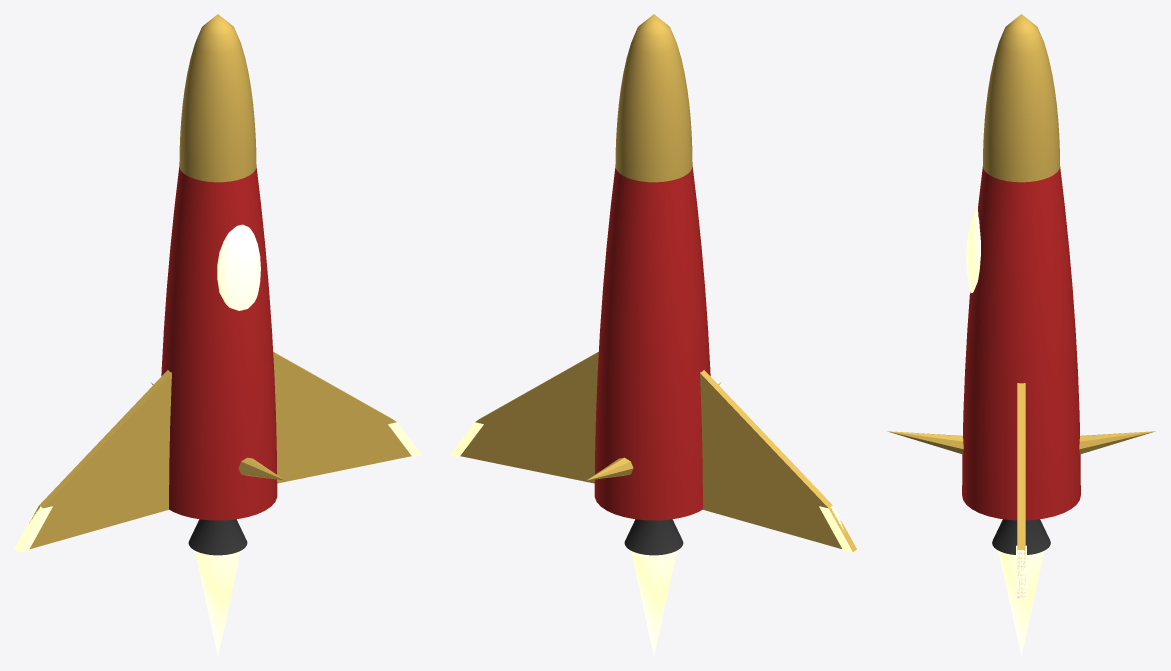
The model's file is Rocket_29_GoldenHawk.fbx.
3 renders of one model, left to right at view 1: azimuth 30°, elevation 25°; view 2: azimuth 150°, elevation 25°; view 3: azimuth 270°, elevation 25°, orthographic.
Visible parts, largest first — view 1: R29_Body, R29_Fin_2, R29_Fin_1, R29_Nose, R29_Cockpit, R29_Flame_1, R29_Nozzle_1, R29_FinGlow_2; view 2: R29_Body, R29_Fin_2, R29_Fin_1, R29_Nose, R29_Flame_1, R29_Nozzle_1; view 3: R29_Body, R29_Nose, R29_Flame_1, R29_Fin_1, R29_Nozzle_1, R29_Cockpit, R29_Spike_1, R29_Spike_2, R29_FinGlow_1.
Part boxes in pixels (bbox=[...]): R29_Body: bbox=[161, 165, 277, 520]; R29_Fin_2: bbox=[29, 370, 171, 548]; R29_Fin_1: bbox=[273, 352, 411, 483]; R29_Nose: bbox=[179, 14, 256, 182]; R29_Cockpit: bbox=[217, 224, 260, 310]; R29_Flame_1: bbox=[195, 551, 240, 655]; R29_Nozzle_1: bbox=[188, 519, 247, 555]; R29_FinGlow_2: bbox=[14, 504, 52, 552]; R29_Body: bbox=[594, 165, 710, 520]; R29_Fin_2: bbox=[700, 370, 856, 551]; R29_Fin_1: bbox=[460, 352, 598, 483]; R29_Nose: bbox=[615, 14, 692, 182]; R29_Flame_1: bbox=[631, 551, 676, 655]; R29_Nozzle_1: bbox=[624, 519, 683, 555]; R29_Body: bbox=[962, 166, 1080, 520]; R29_Nose: bbox=[983, 14, 1059, 182]; R29_Flame_1: bbox=[998, 550, 1044, 656]; R29_Fin_1: bbox=[1017, 383, 1025, 597]; R29_Nozzle_1: bbox=[992, 519, 1050, 554]; R29_Cockpit: bbox=[966, 208, 980, 293]; R29_Spike_1: bbox=[1079, 431, 1155, 454]; R29_Spike_2: bbox=[887, 431, 963, 454]; R29_FinGlow_1: bbox=[1016, 545, 1026, 599].
Bounding box in the file's own units: 6.64 × 10.15 × 3.87.
